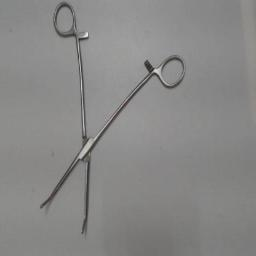Lahey Forceps: (36, 2, 194, 240)
